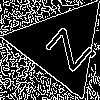Z: (36, 20, 94, 73)
